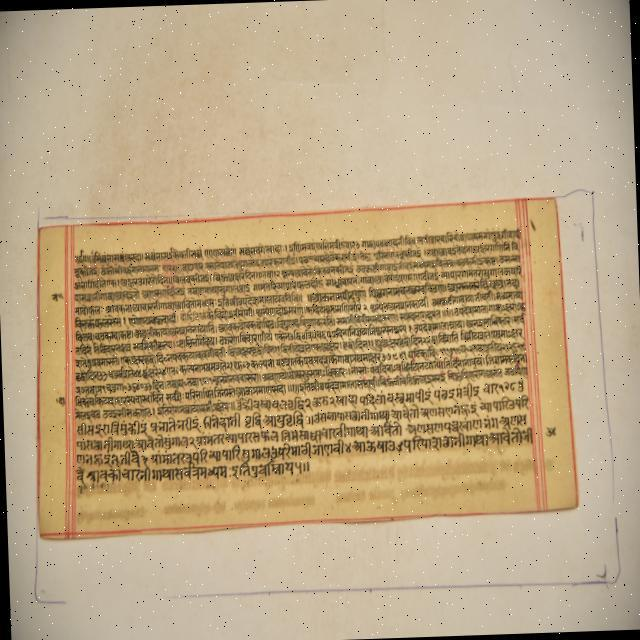text_paragraph: (35, 196, 577, 537)
